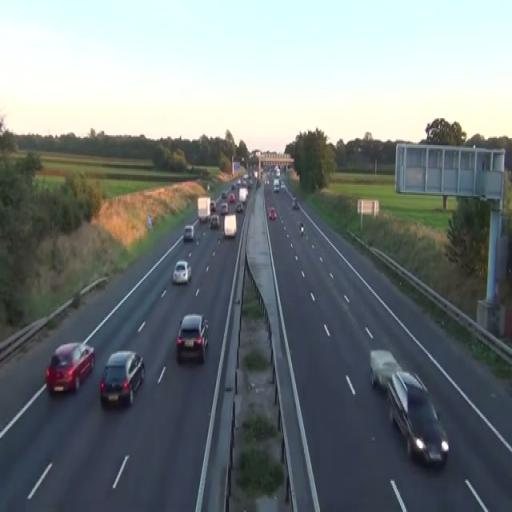Car: (385, 370, 449, 468), (99, 350, 146, 409), (46, 341, 96, 394), (175, 314, 210, 364), (370, 349, 402, 393), (172, 260, 192, 286), (184, 225, 194, 243), (268, 206, 278, 220), (274, 178, 280, 192)
